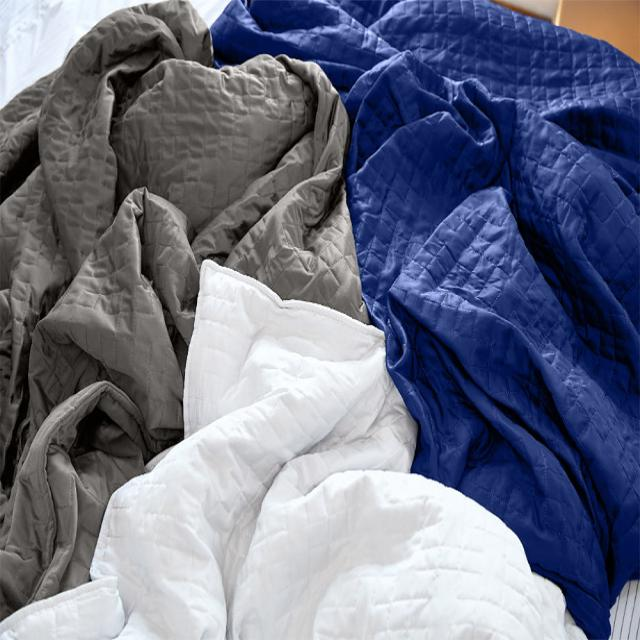blanket: (212, 1, 640, 637), (1, 3, 369, 614), (91, 263, 581, 639)
